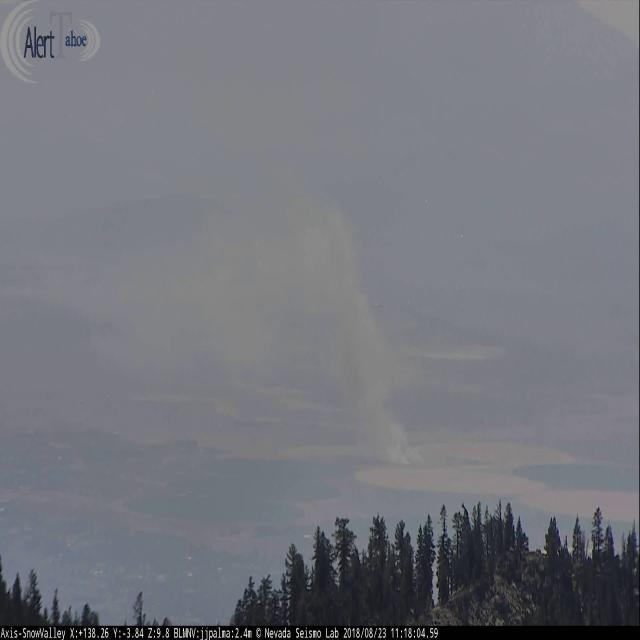smoke: (93, 205, 426, 465)
